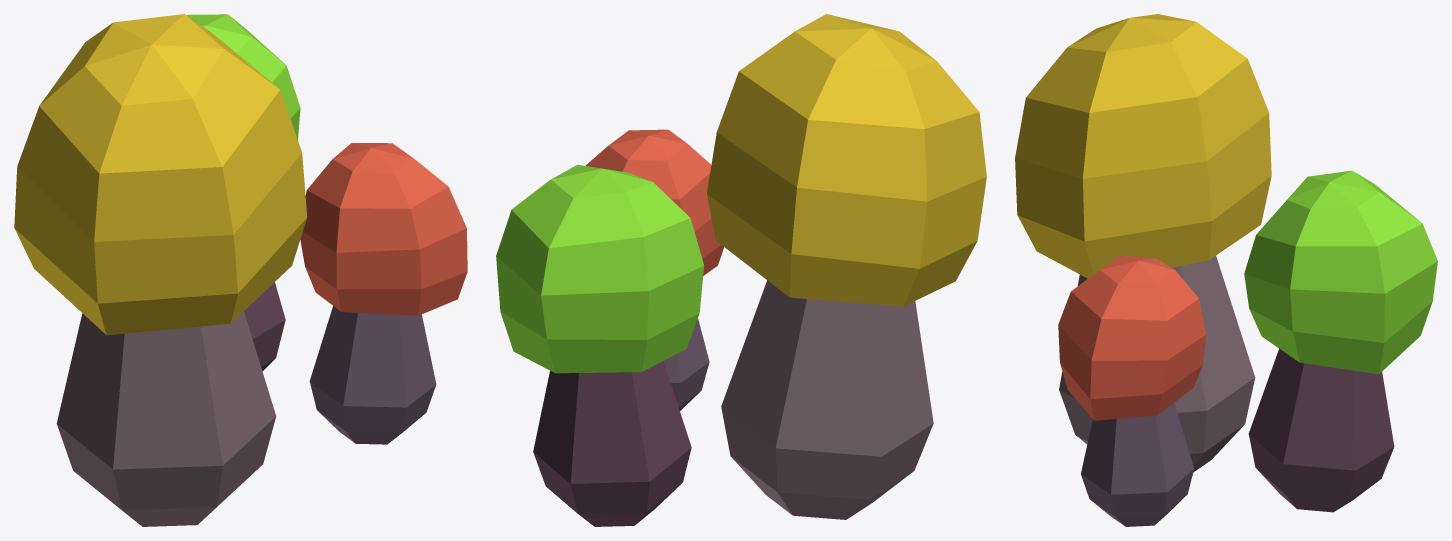
File: tinyMushroomCluster01.gltf
The picture shows the model from 3 angles, left to right: view 1: azimuth 30°, elevation 25°; view 2: azimuth 150°, elevation 25°; view 3: azimuth 270°, elevation 25°; orthographic projection. The views are drawn at different scales.
Parts seen in each view (by area): view 1: Sphere.001, Sphere, Sphere.005, Sphere.004, Sphere.003, Sphere.002; view 2: Sphere.001, Sphere, Sphere.003, Sphere.002, Sphere.005, Sphere.004; view 3: Sphere.001, Sphere.003, Sphere.005, Sphere.002, Sphere, Sphere.004.
Part boxes in pixels (x1,y1,x2,y2): Sphere.001: [14, 14, 307, 335]; Sphere: [56, 311, 276, 526]; Sphere.005: [300, 143, 467, 315]; Sphere.004: [309, 306, 436, 444]; Sphere.003: [186, 14, 300, 139]; Sphere.002: [244, 282, 285, 371]; Sphere.001: [707, 14, 986, 306]; Sphere: [721, 280, 933, 519]; Sphere.003: [496, 164, 704, 373]; Sphere.002: [533, 361, 691, 526]; Sphere.005: [585, 129, 723, 275]; Sphere.004: [663, 318, 709, 410]; Sphere.001: [1015, 14, 1271, 278]; Sphere.003: [1244, 170, 1437, 374]; Sphere.005: [1058, 255, 1206, 420]; Sphere.002: [1248, 348, 1394, 512]; Sphere: [1059, 256, 1255, 472]; Sphere.004: [1081, 403, 1194, 526].
Size of the model in its own units: 2.35 by 2.84 by 2.47.
